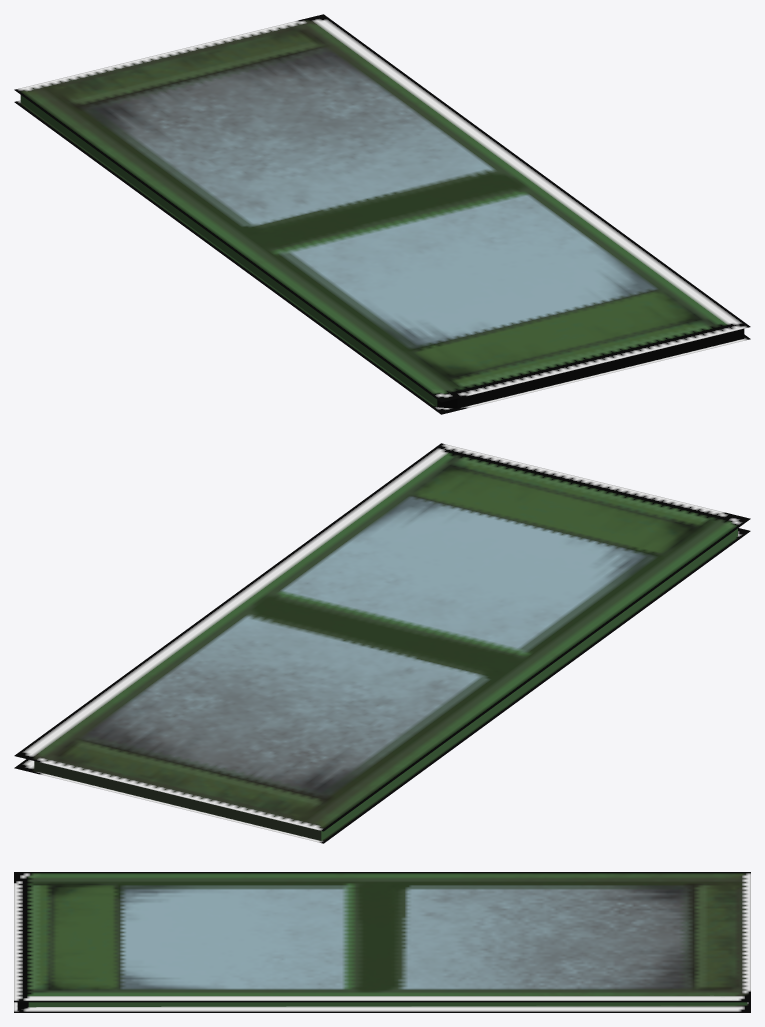
Rendered from pz_native_location_shop_greenes_01_14_frame.obj.
3 renders of one model, top to bottom at view 1: azimuth 30°, elevation 25°; view 2: azimuth 150°, elevation 25°; view 3: azimuth 270°, elevation 25°, orthographic. The views are drawn at different scales.
Visible parts, largest first — view 1: pz_native_location_shop_greenes_01_14_frame; view 2: pz_native_location_shop_greenes_01_14_frame; view 3: pz_native_location_shop_greenes_01_14_frame.
Part boxes in pixels (x1,y1,x2,y2): pz_native_location_shop_greenes_01_14_frame: (14, 14, 750, 414); pz_native_location_shop_greenes_01_14_frame: (14, 443, 750, 843); pz_native_location_shop_greenes_01_14_frame: (14, 872, 750, 1012).
Size of the model in its own units: 1.06 by 0.04 by 2.54.
Materials: 1 (1 with a texture image).
